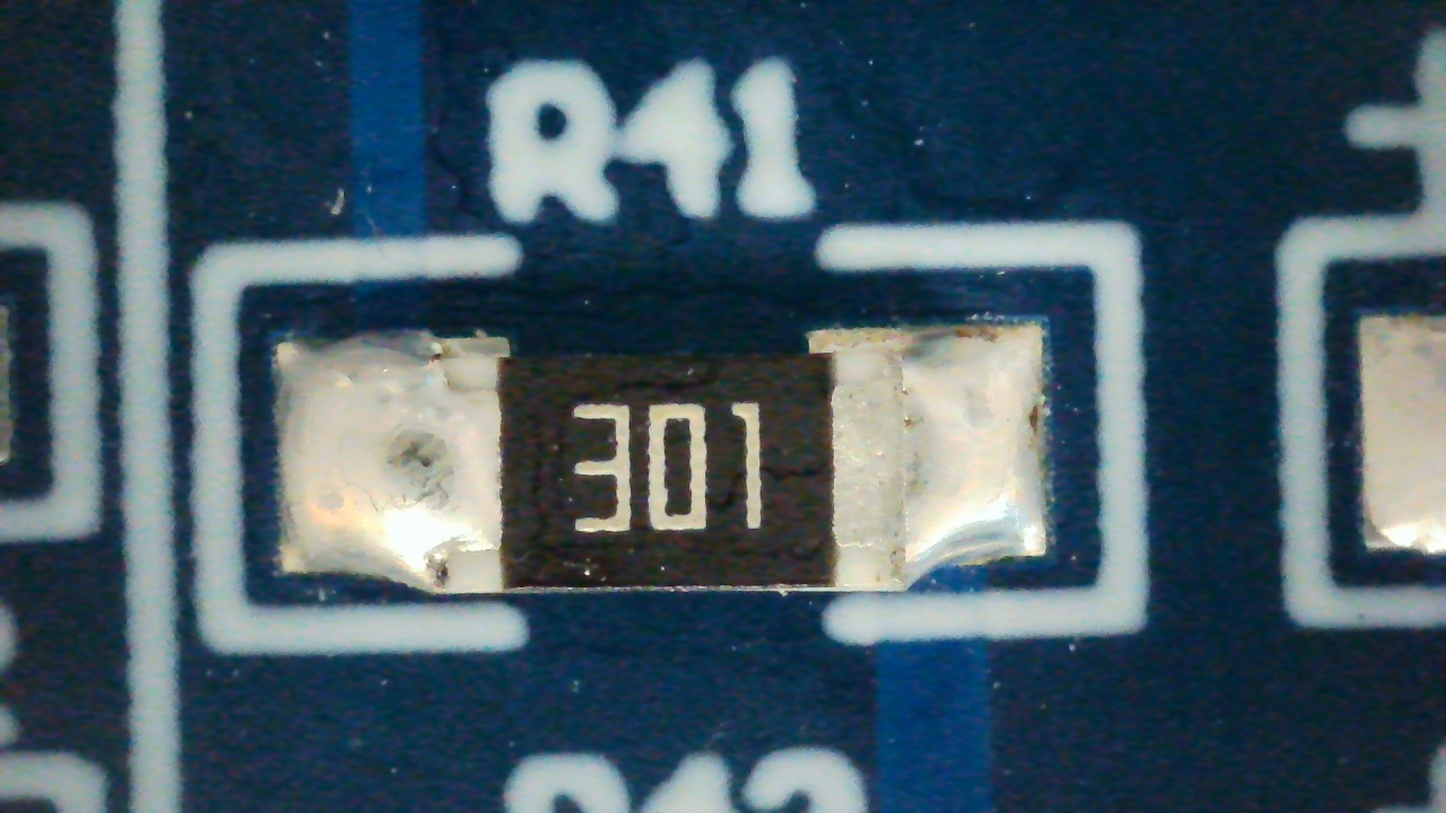OK: (278, 323, 1045, 597)
